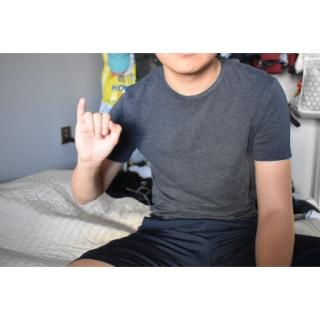MEEM: (74, 95, 123, 164)
